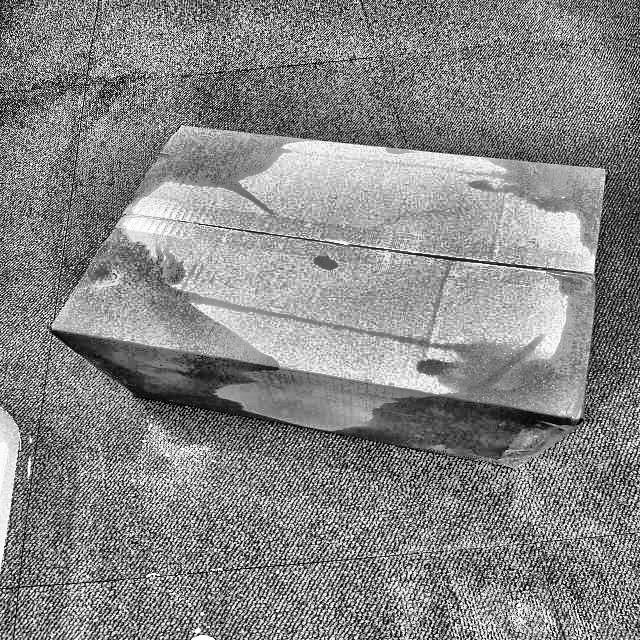box: (42, 120, 610, 477)
wet: (409, 281, 622, 471), (44, 251, 270, 415), (101, 111, 313, 217), (484, 146, 640, 268)
